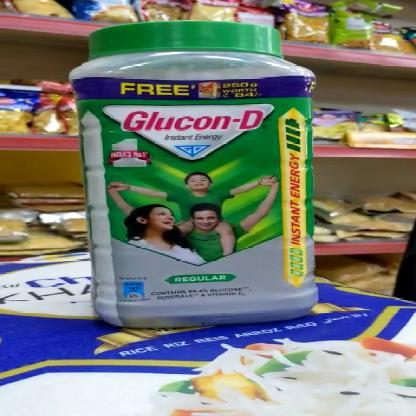Glucon D Regular 2-KG: (71, 22, 317, 326)
